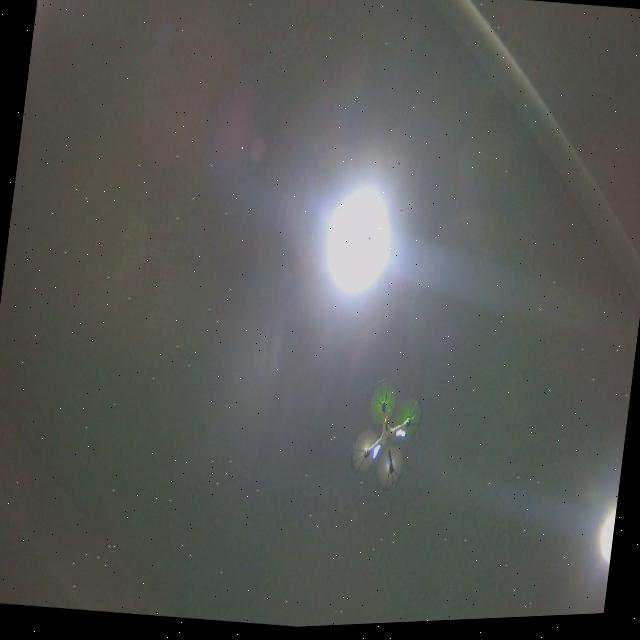drone: (344, 374, 428, 501)
